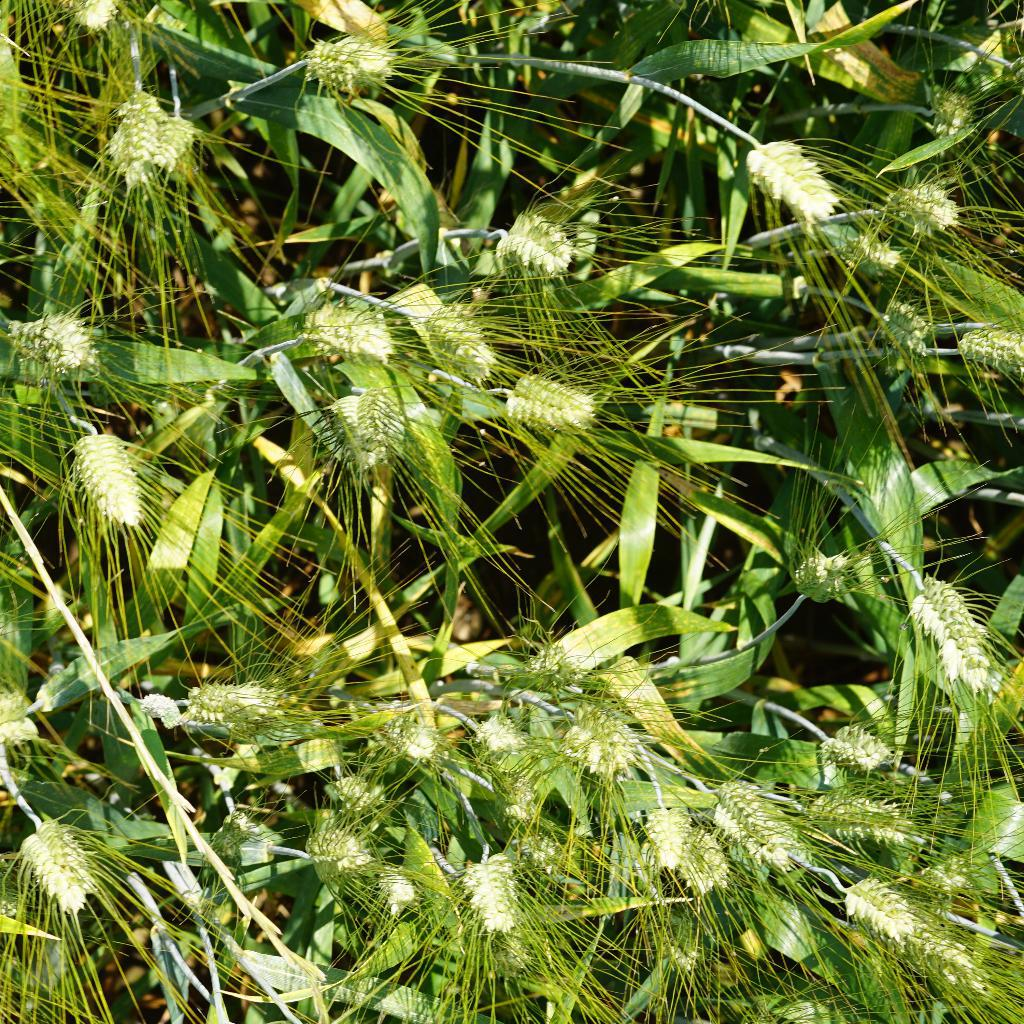0-0: (901, 572, 1008, 705), (453, 858, 550, 988), (62, 411, 160, 533), (732, 133, 845, 225), (11, 811, 107, 916), (175, 653, 292, 739), (564, 665, 645, 780), (712, 774, 810, 867), (281, 287, 392, 369), (333, 377, 417, 473), (292, 15, 399, 89), (474, 206, 583, 276), (0, 310, 105, 382), (817, 789, 931, 855), (926, 920, 1009, 1009), (833, 867, 930, 943), (98, 77, 161, 185), (874, 167, 967, 239), (417, 299, 501, 376), (499, 372, 598, 436), (641, 894, 707, 983), (918, 830, 987, 911), (785, 530, 860, 602), (817, 719, 906, 779), (626, 787, 695, 864), (511, 632, 598, 692), (463, 849, 522, 937), (467, 701, 541, 770), (321, 759, 408, 817), (302, 815, 366, 890), (0, 673, 53, 762), (506, 817, 572, 886), (676, 821, 731, 899), (156, 104, 212, 180), (372, 856, 438, 920), (834, 217, 914, 269), (957, 316, 1024, 378), (381, 702, 440, 770), (881, 288, 935, 362), (923, 79, 985, 141), (203, 800, 259, 867), (131, 676, 189, 737), (477, 769, 541, 822)
